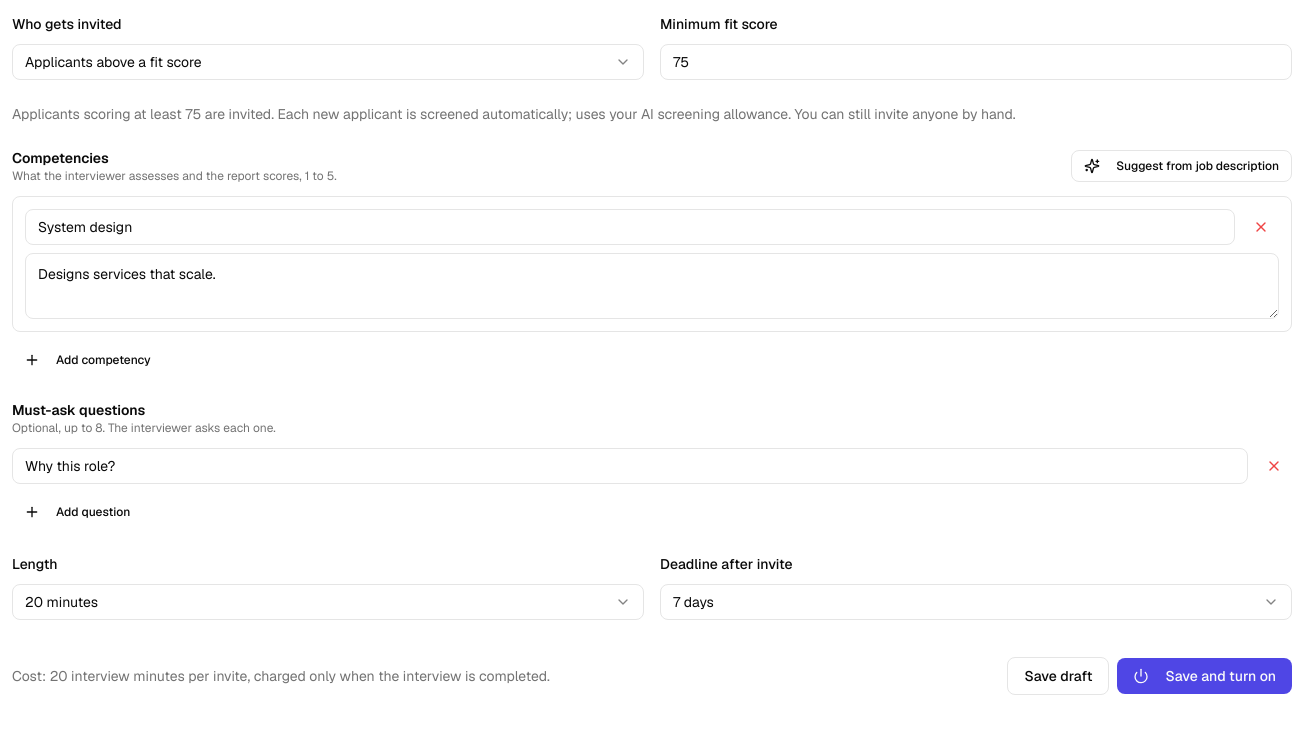
InterviewConfigSection (SIT-060) › saves the draft and turns it on in one go
The width and height of the screenshot is (1304, 732).
Step 1. Replace the text in the number field labelled "Minimum fit score" with "80" → (976, 62), box [660,44,1292,80]
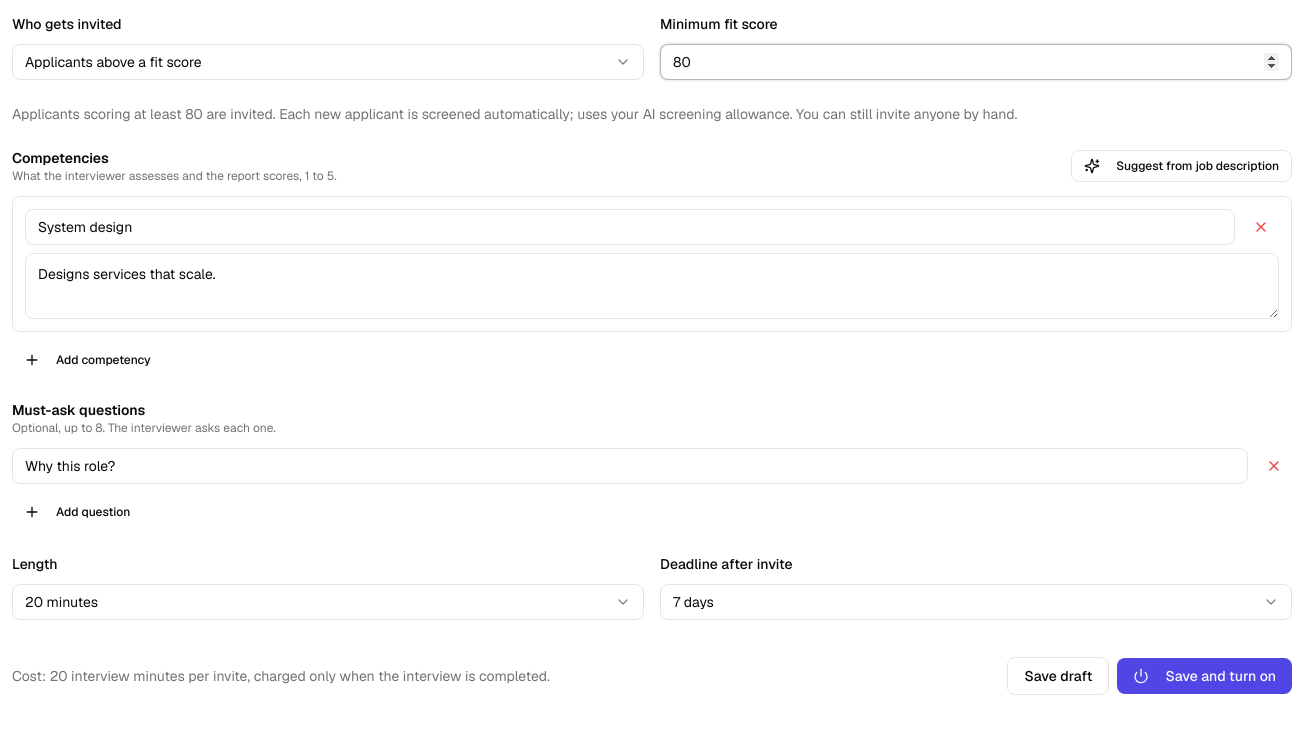
Step 2. Click the button "Save and turn on" → click(1205, 676), box [1118,658,1292,694]
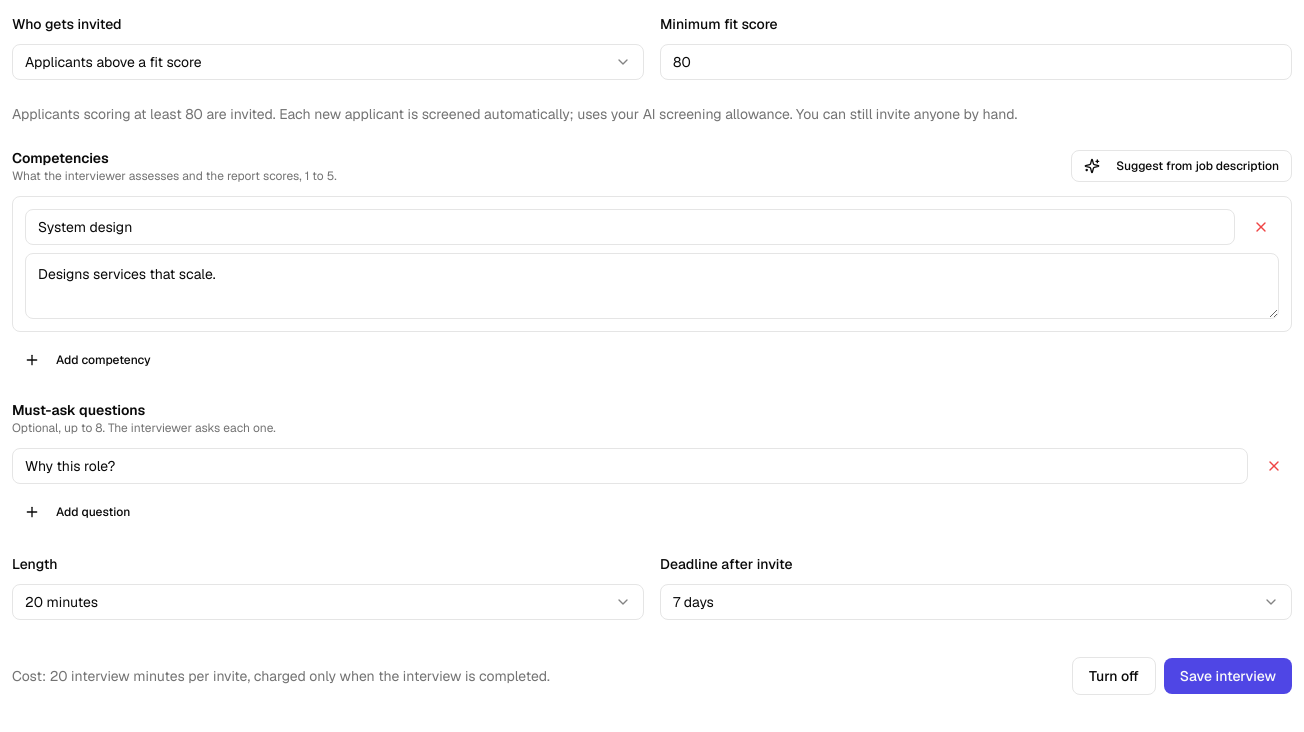
Now the button "Turn off" is shown, box [1072,657,1156,695]
